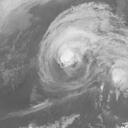cyclone: (37, 2, 108, 94)
